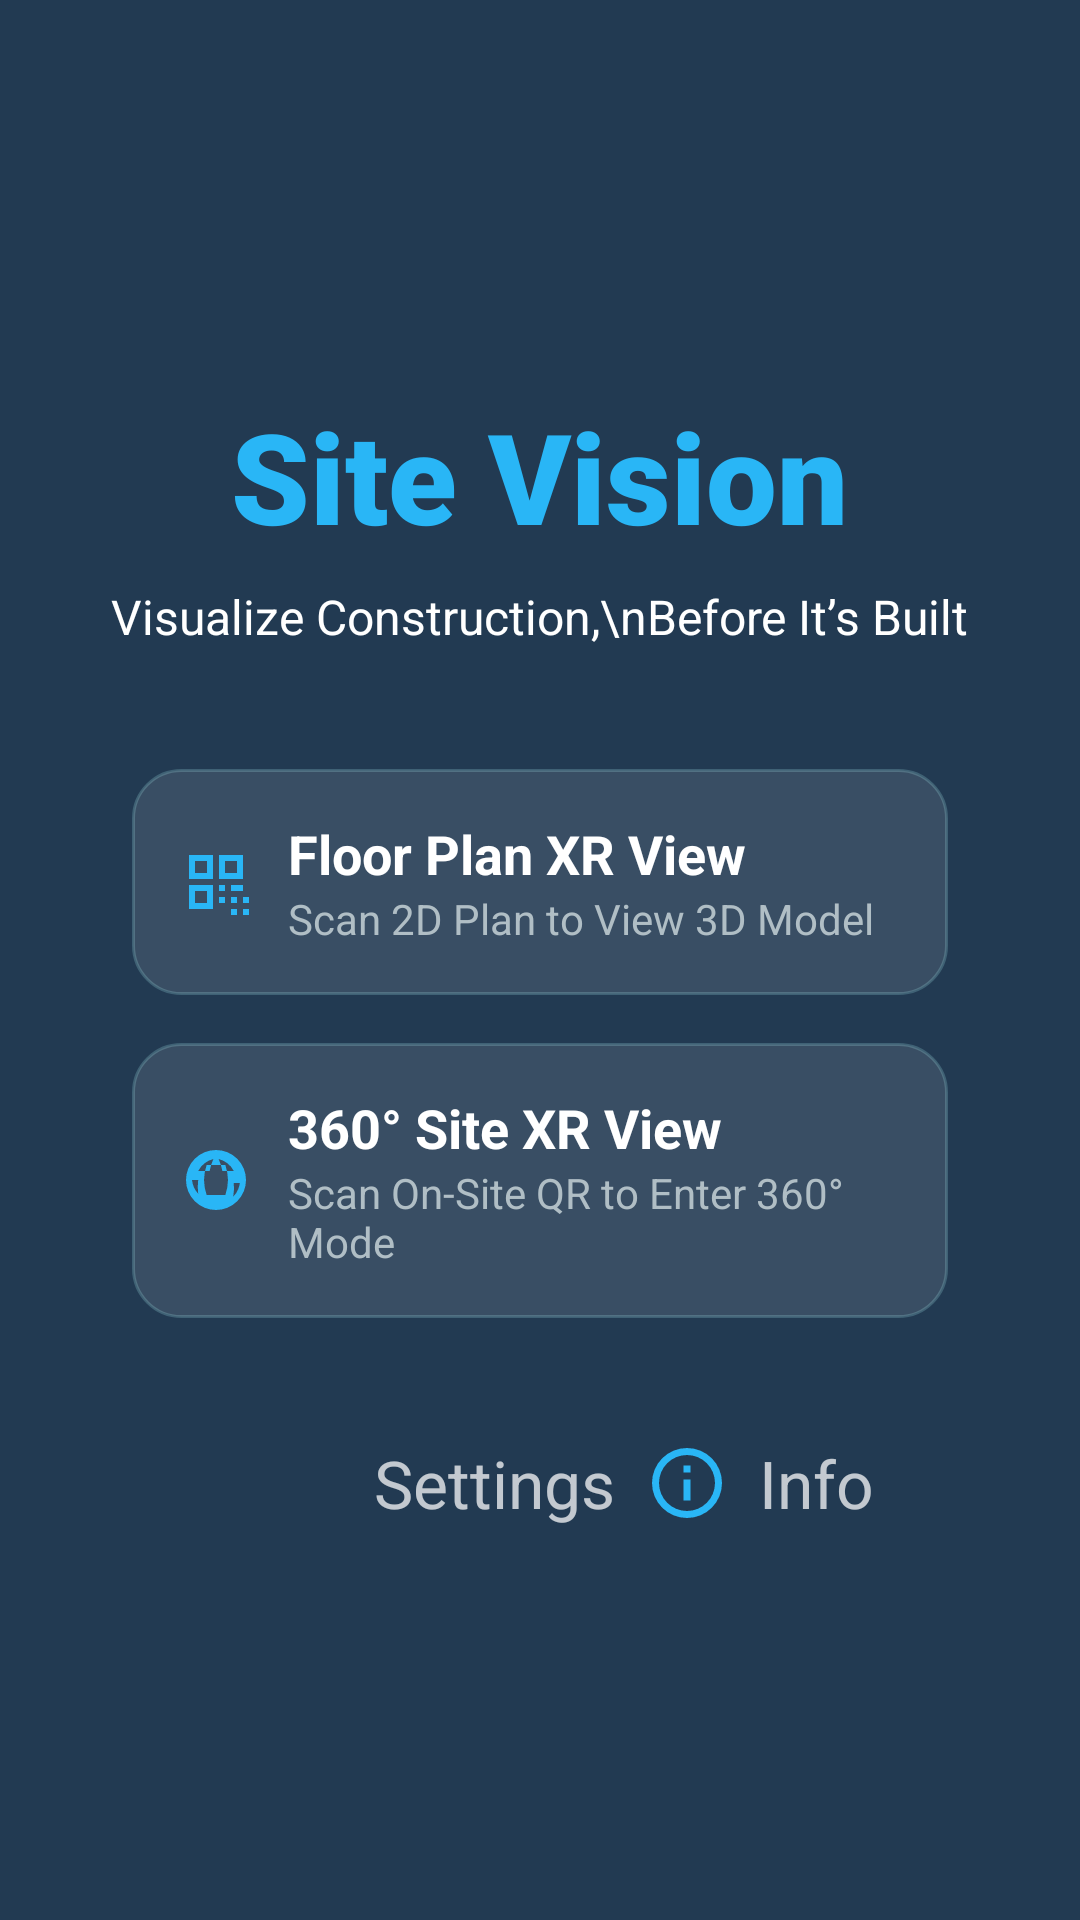

Locate icon controls on the screen. Image size 1080 × 1920, boxes as (x1, y1, x2, y2).
globe: (186, 1150, 246, 1210)
qr code: (189, 855, 249, 915)
